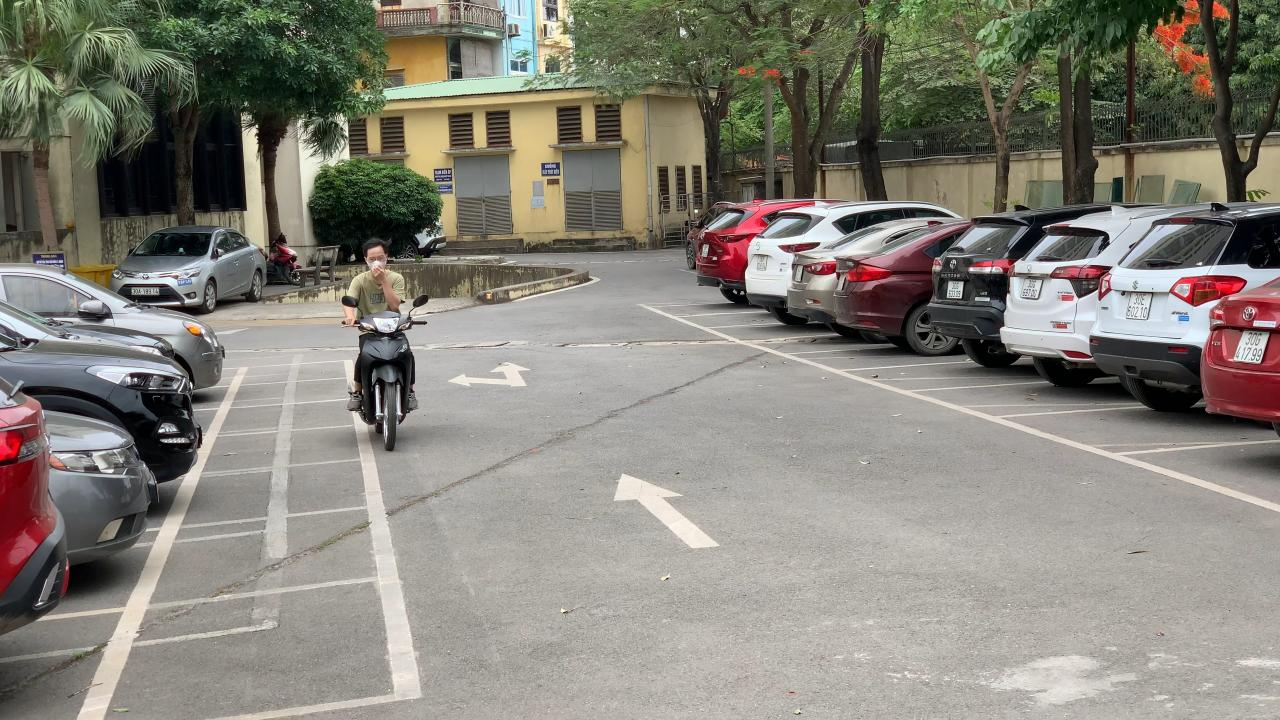motorcyclist: (340, 237, 430, 452)
